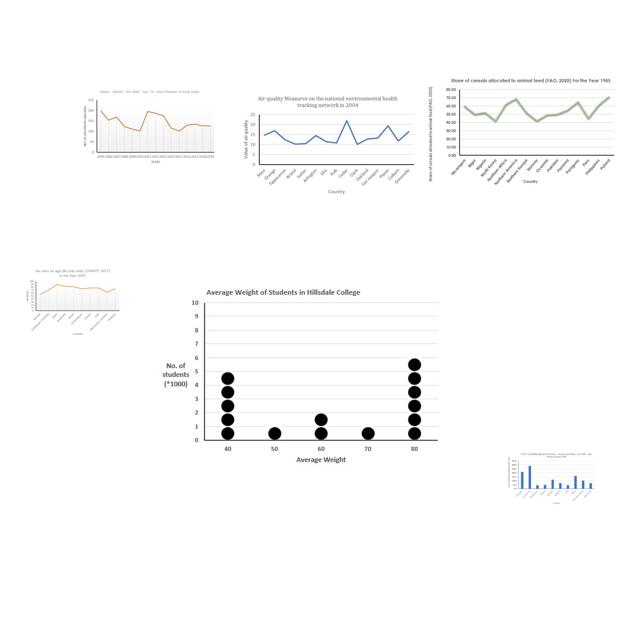Graph: (154, 283, 443, 472), (425, 77, 616, 189), (239, 93, 417, 199), (79, 88, 217, 166), (24, 268, 121, 336), (507, 452, 596, 506)
